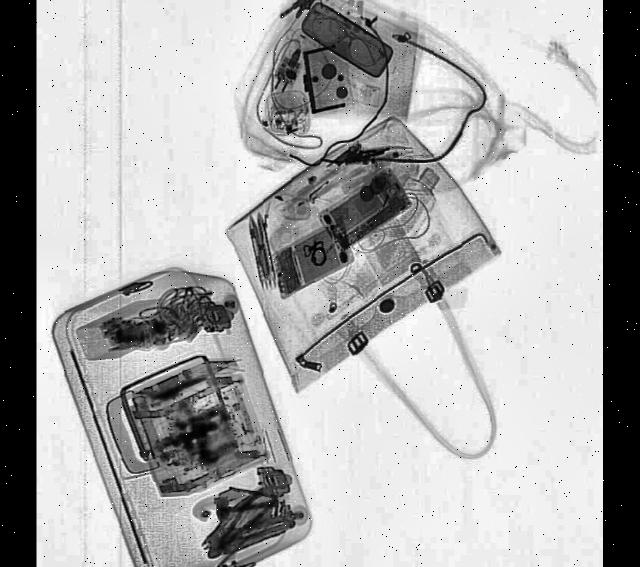Pliers: (198, 476, 280, 567)
